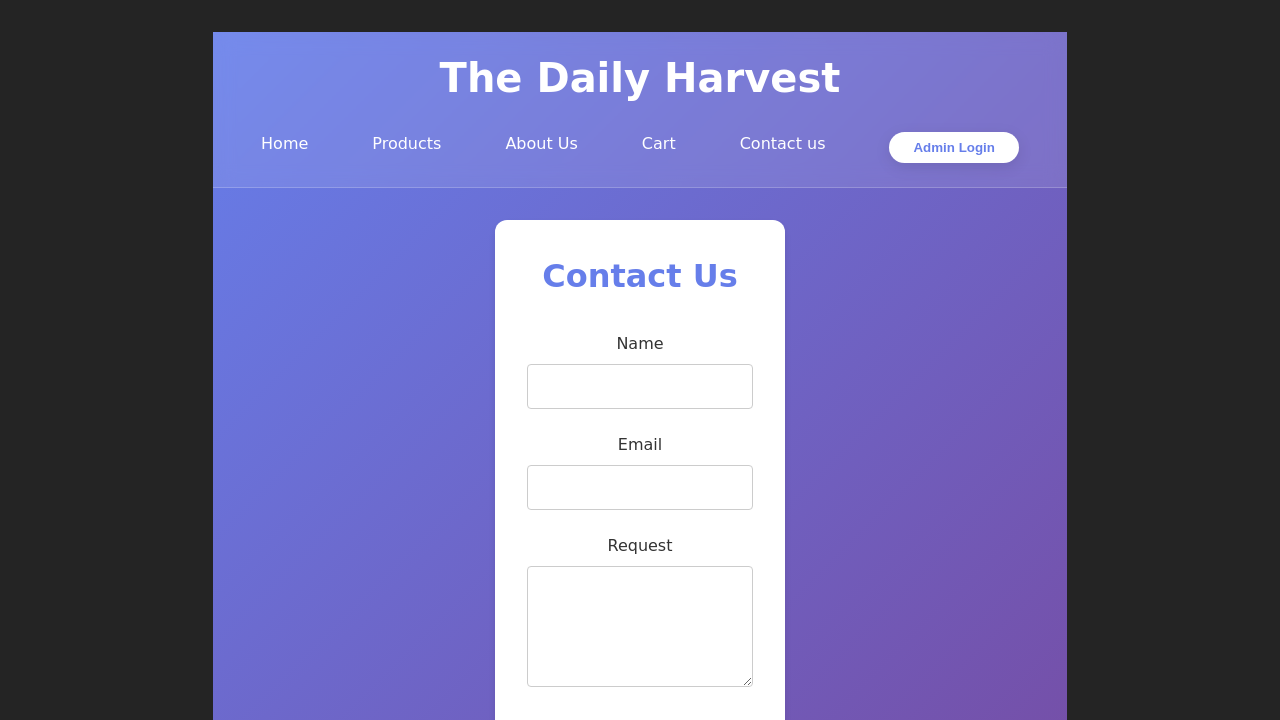
Test: ContactPage › should close modal when continue button is clicked
In the field labelled "Name": (640, 386) x1=527 y1=364 x2=753 y2=409, type "John Doe"
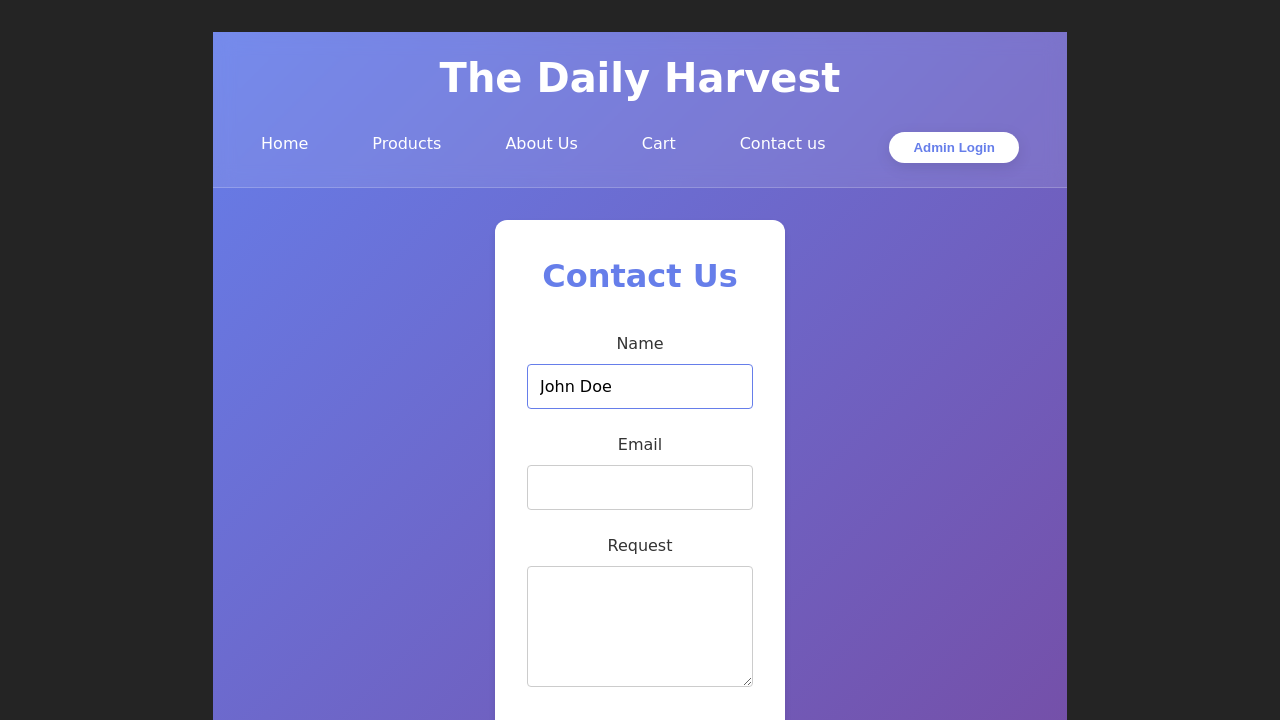
In the field labelled "Email": (640, 488) x1=527 y1=465 x2=753 y2=510, type "john@example.com"
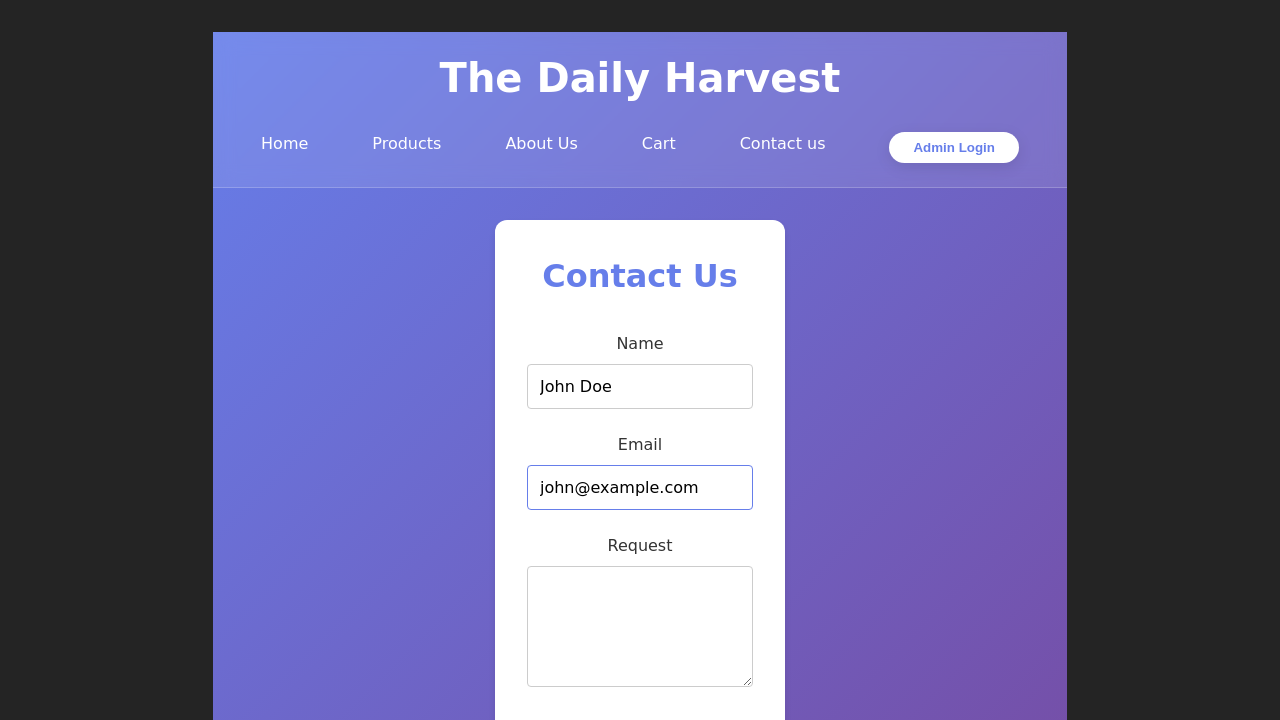
In the text box labelled "Request": (640, 626) x1=527 y1=566 x2=753 y2=687, type "This is my request"
(page scrolled)
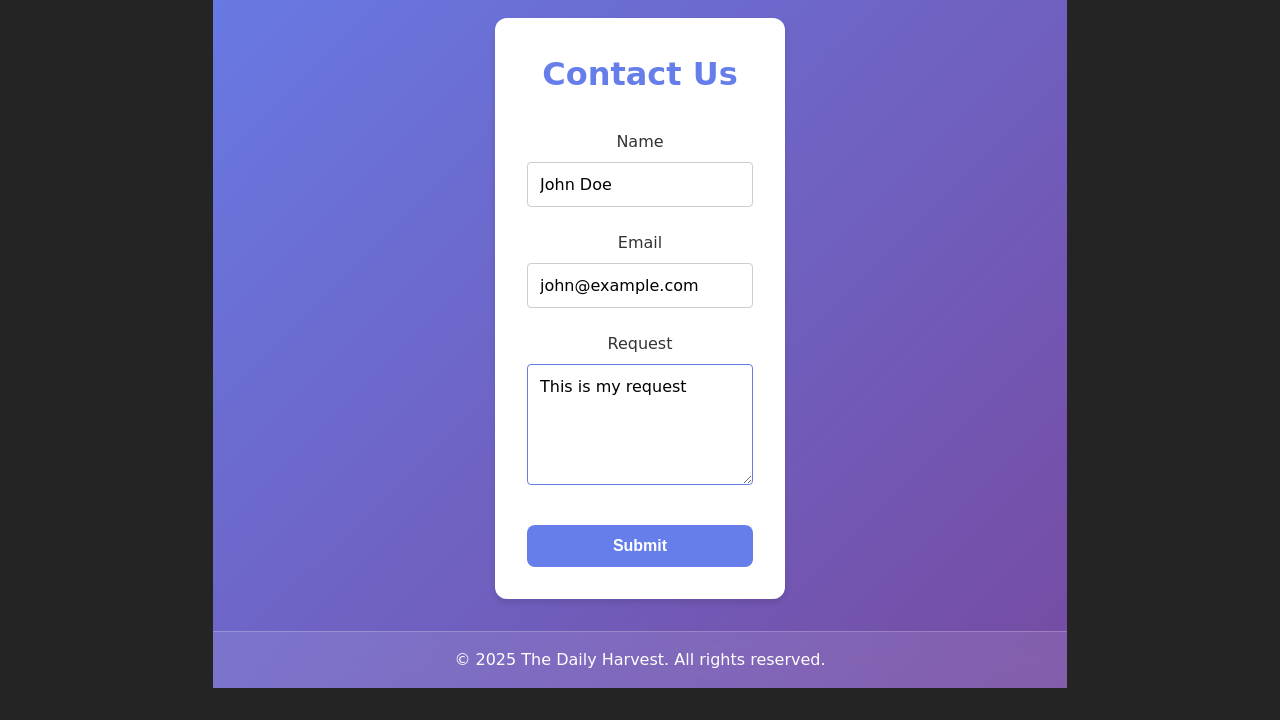
Click the button "Submit": (640, 546) x1=527 y1=525 x2=753 y2=567
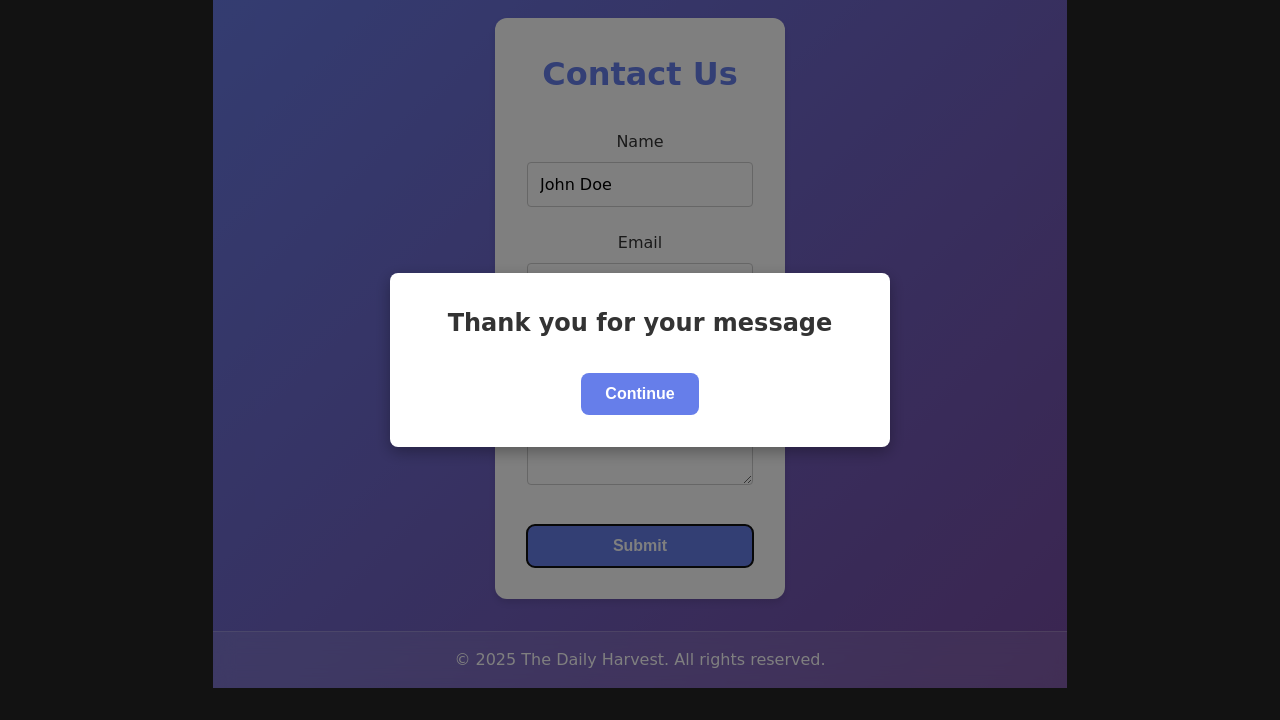
Note: Click continue button
Click the button "Continue": (640, 394) x1=581 y1=373 x2=699 y2=415
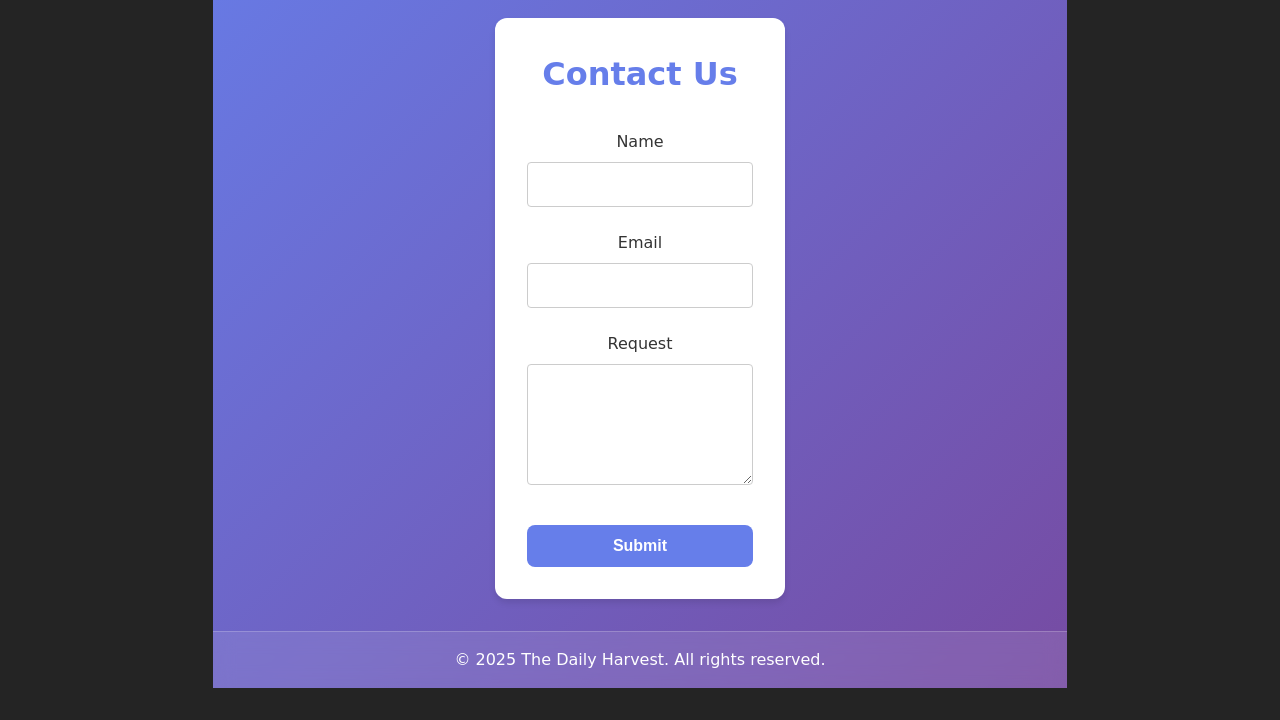
Now the heading "Thank you for your message" is gone
